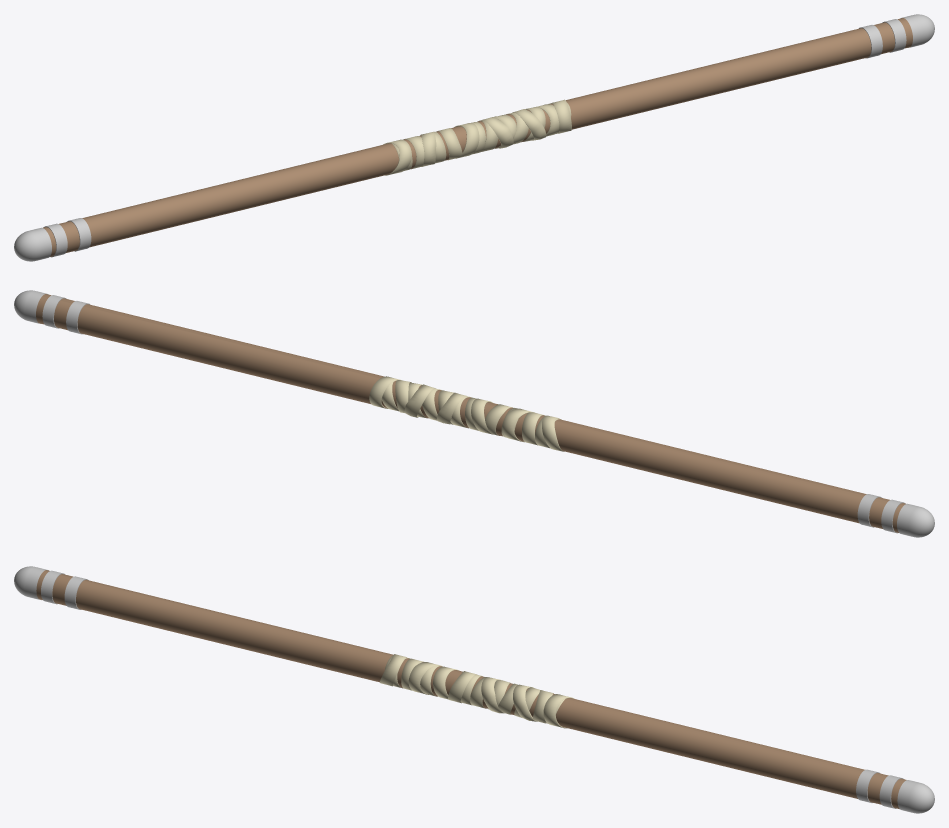
File: wooden_fighting_rod_final.glb
3 views of the same model, one above another, from view 1: azimuth 30°, elevation 25°; view 2: azimuth 150°, elevation 25°; view 3: azimuth 330°, elevation 25° (orthographic).
Visible parts, largest first — view 1: main rod_0, wrap_2, metal parts_1; view 2: main rod_0, wrap_2, metal parts_1; view 3: main rod_0, wrap_2, metal parts_1.
Boxes of the visible parts, x1=… form: main rod_0: x1=43, y1=18, x2=912, y2=256; wrap_2: x1=383, y1=99, x2=571, y2=175; metal parts_1: x1=14, y1=14, x2=934, y2=261; main rod_0: x1=36, y1=294, x2=905, y2=532; wrap_2: x1=369, y1=376, x2=564, y2=451; metal parts_1: x1=14, y1=290, x2=934, y2=537; main rod_0: x1=36, y1=570, x2=906, y2=808; wrap_2: x1=380, y1=654, x2=574, y2=728; metal parts_1: x1=14, y1=566, x2=934, y2=813.
Size of the model in its own units: 12.97 by 0.4103 by 0.4095.
3 materials, 1 textured.
